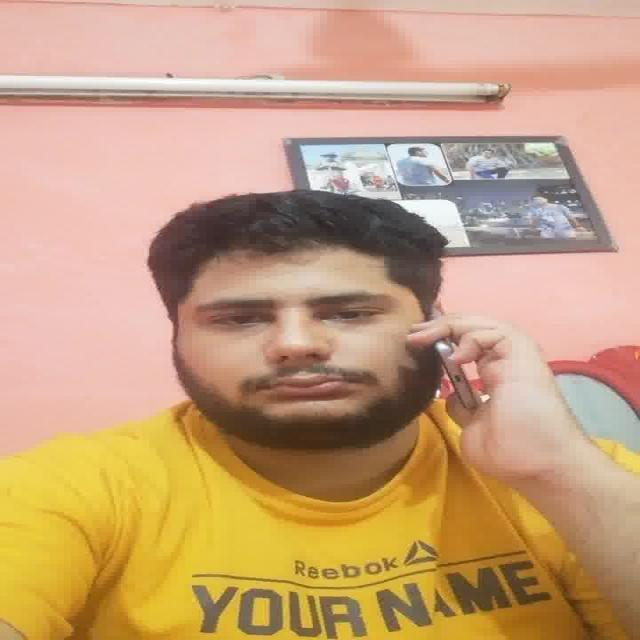Phone: (431, 301, 484, 414)
